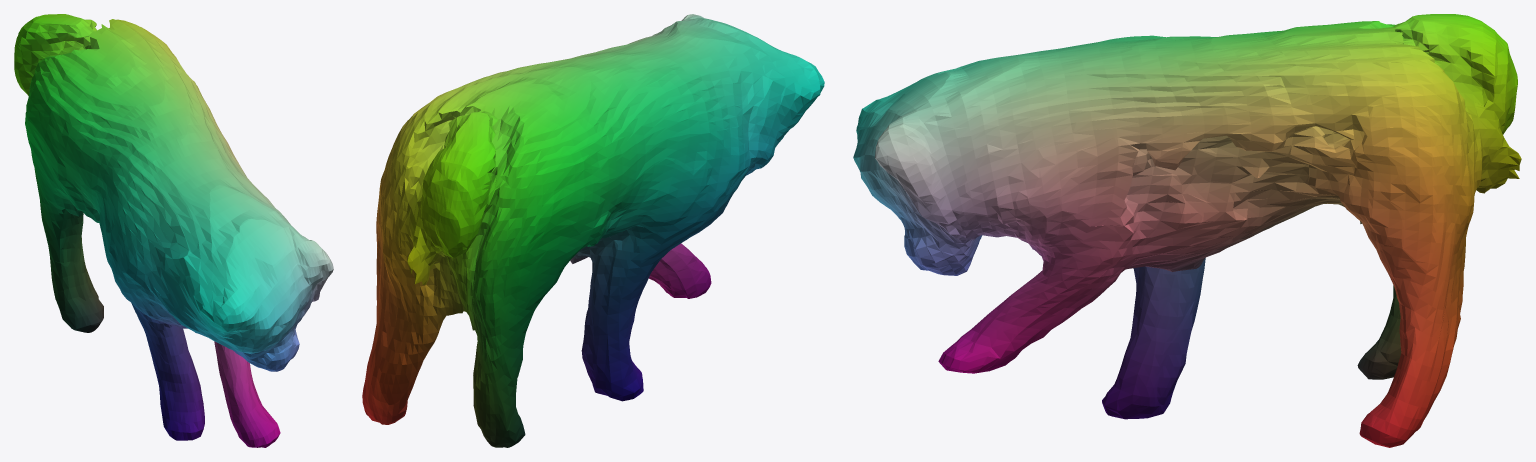
File: shiba-haru-1001-mesh-00035.obj
3 renders of one model, left to right at view 1: azimuth 30°, elevation 25°; view 2: azimuth 150°, elevation 25°; view 3: azimuth 270°, elevation 25°, orthographic. The views are drawn at different scales.
Bounding box in the file's own units: 0.0536 × 0.0834 × 0.1246.
